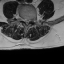CCS_normal: (25, 16, 27, 27)
LFS_stenosis: (29, 16, 32, 24)
LLS_normal: (27, 16, 29, 25)
RFS_normal: (21, 15, 23, 23)
RLS_normal: (23, 16, 25, 24)
